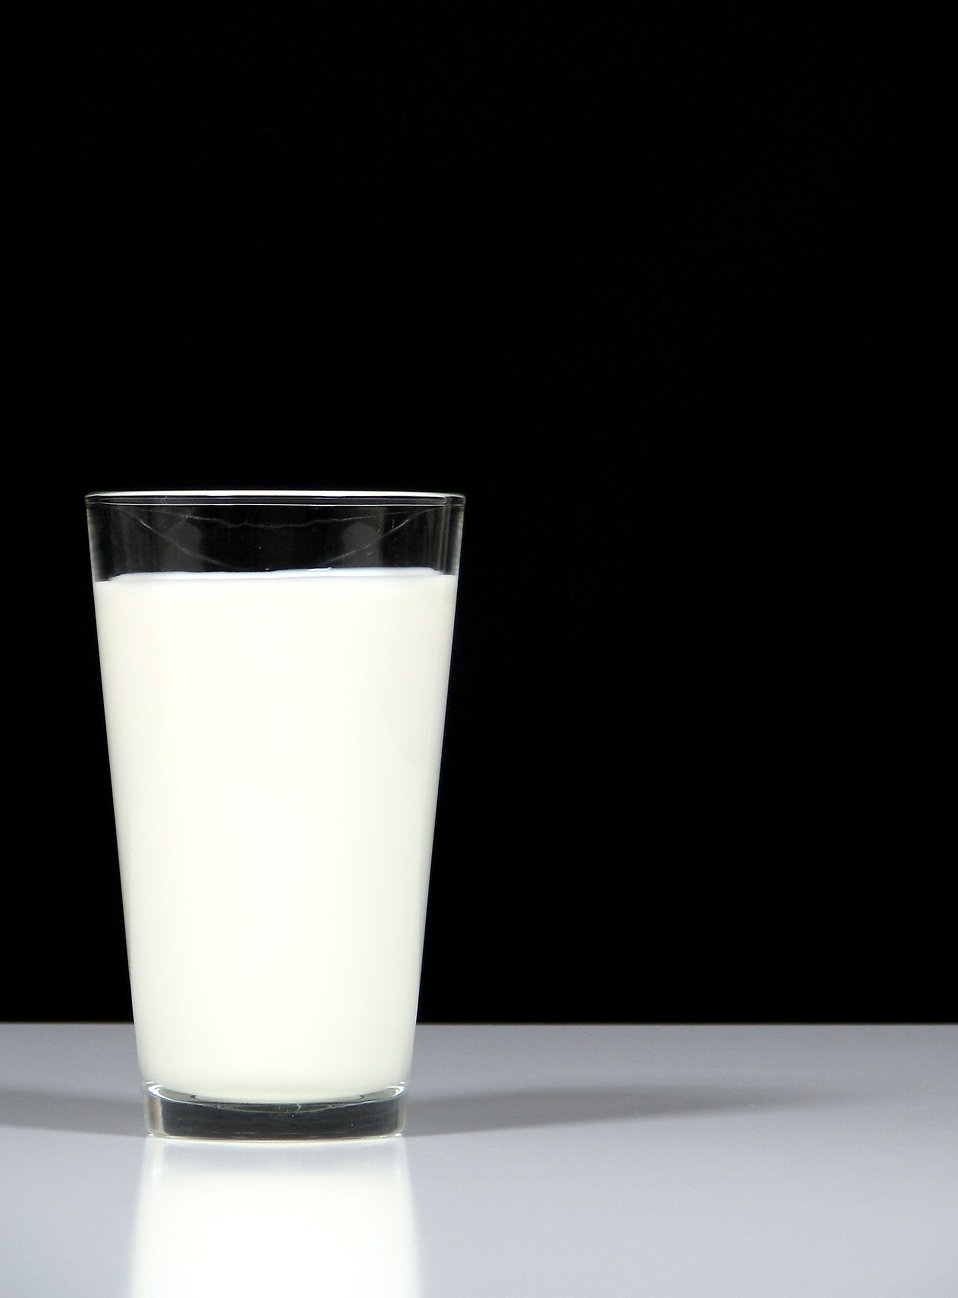glass of milk: (85, 456, 499, 1183)
